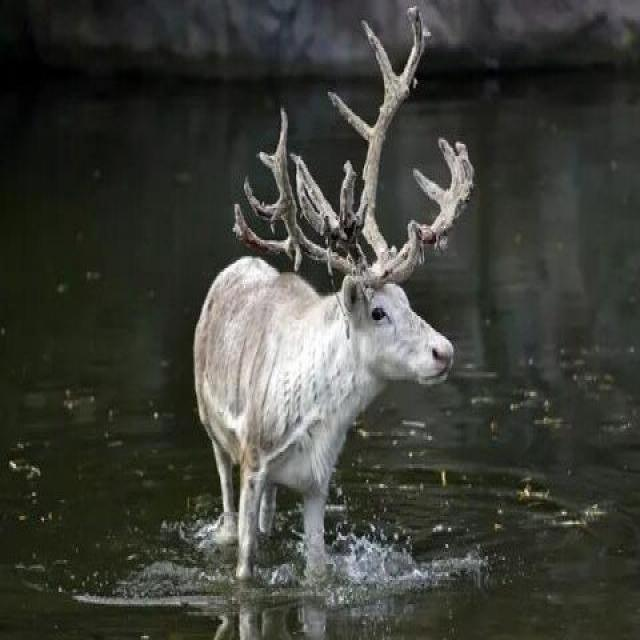deer: (180, 74, 510, 561)
